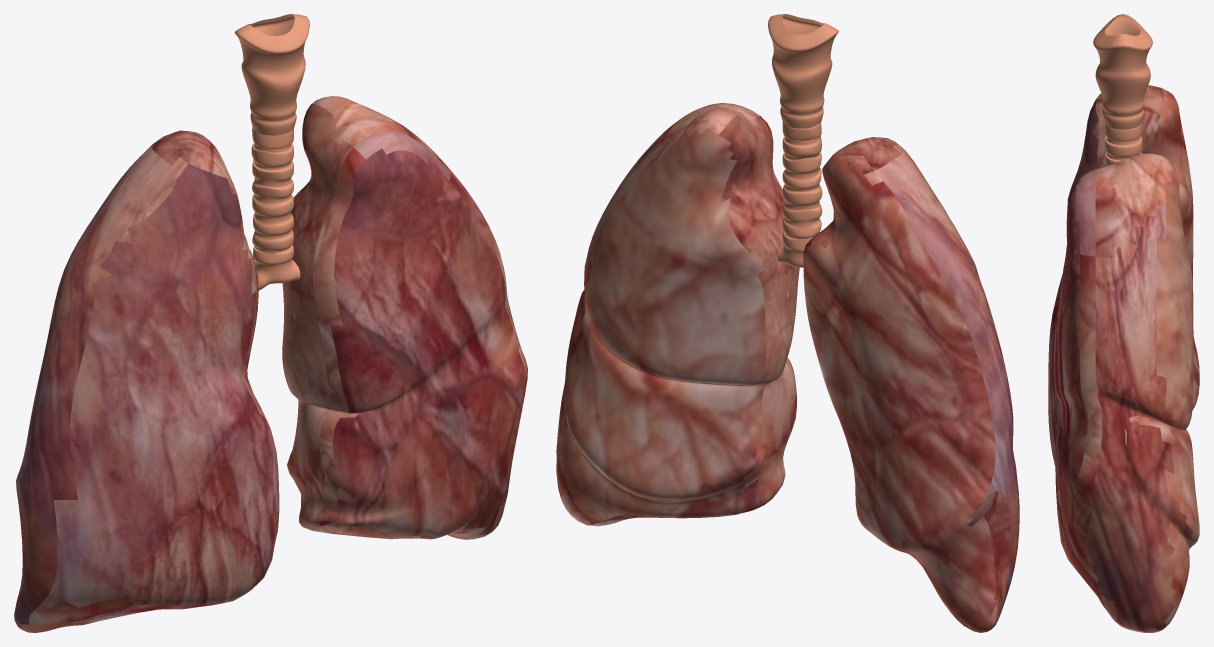
File: newlungs.glb
3 renders of one model, left to right at view 1: azimuth 30°, elevation 25°; view 2: azimuth 150°, elevation 25°; view 3: azimuth 270°, elevation 25°, orthographic. The views are drawn at different scales.
Parts seen in each view (by area): view 1: Circle.002, Circle.001; view 2: Circle.002, Circle.001; view 3: Circle.002, Circle.001.
Boxes of the visible parts, x1,y1,x2,y2 form: Circle.002: (14, 96, 527, 632); Circle.001: (234, 14, 309, 290); Circle.002: (556, 103, 1019, 632); Circle.001: (768, 14, 838, 267); Circle.002: (1048, 85, 1199, 632); Circle.001: (1093, 14, 1152, 165).
Bounding box in the file's own units: 3.67 × 4.23 × 1.12.
3 materials, 2 textured.
